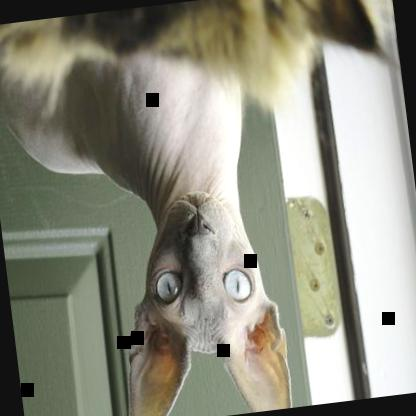cat: (0, 32, 297, 415)
